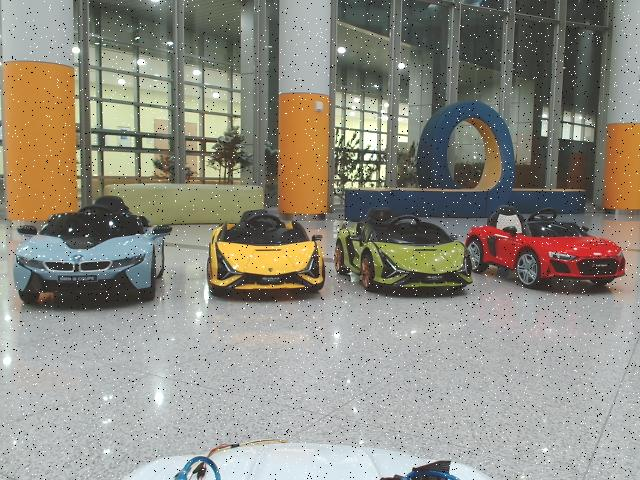car: (13, 195, 174, 308), (466, 204, 627, 287), (334, 207, 472, 294), (206, 209, 326, 298)
